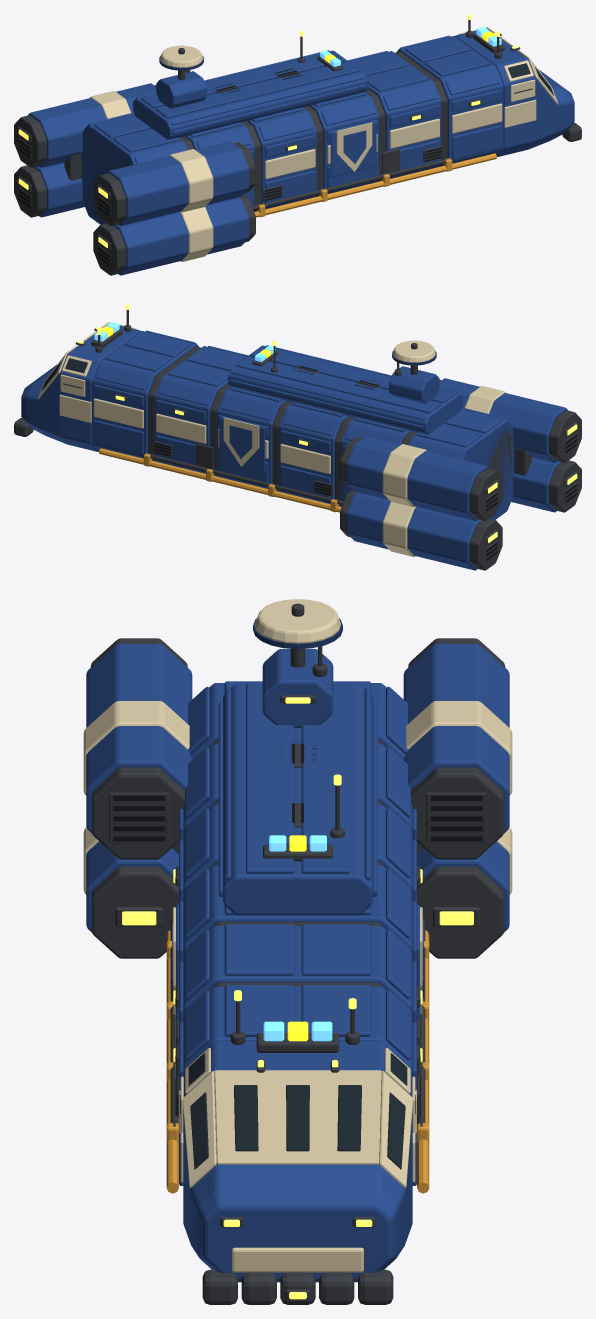
File: police-heavy.glb
The picture shows the model from 3 angles, top to bottom: view 1: azimuth 30°, elevation 25°; view 2: azimuth 150°, elevation 25°; view 3: azimuth 270°, elevation 25°; orthographic projection. The views are drawn at different scales.
Parts seen in each view (by area): view 1: hull body, drive body, radar arm body; view 2: hull body, drive body, radar arm body; view 3: hull body, drive body, radar arm body.
Boxes of the visible parts, bbox=[...] form: hull body: bbox=[81, 20, 581, 224]; drive body: bbox=[14, 83, 255, 275]; radar arm body: bbox=[159, 45, 203, 70]; hull body: bbox=[14, 310, 514, 519]; drive body: bbox=[340, 378, 581, 570]; radar arm body: bbox=[392, 340, 436, 365]; hull body: bbox=[166, 648, 429, 1304]; drive body: bbox=[83, 638, 512, 958]; radar arm body: bbox=[253, 599, 342, 649].
Bounding box in the file's own units: 13.08 × 4.24 × 4.86.
